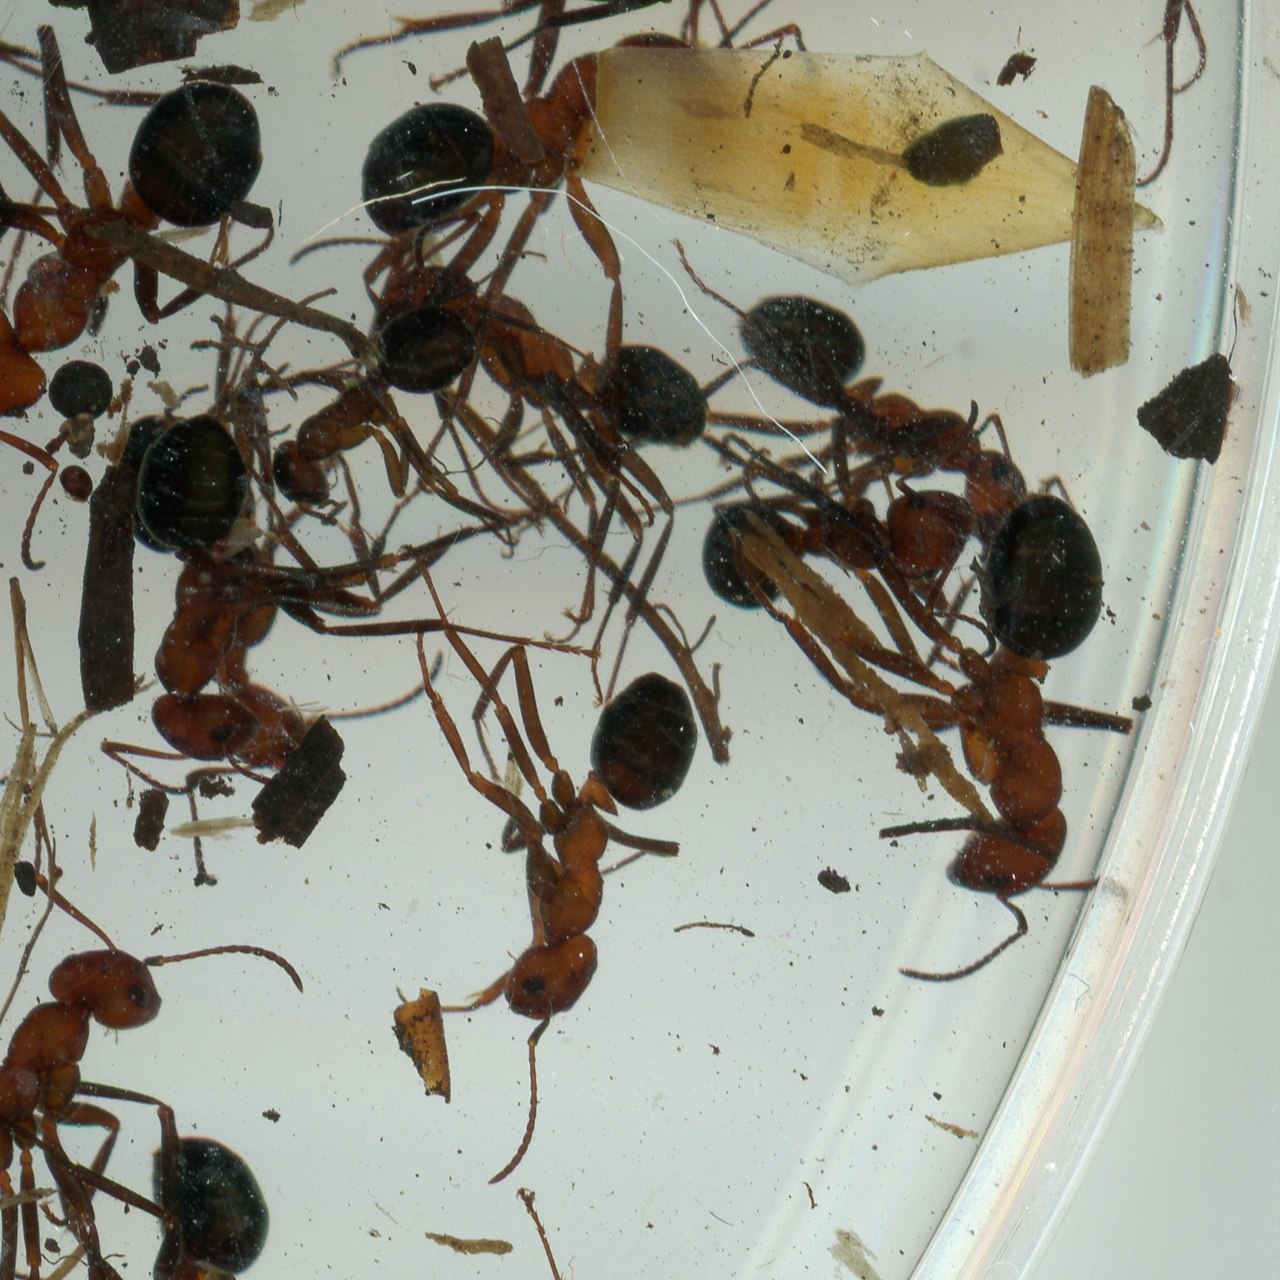arthropod: (398, 544, 704, 1199), (292, 0, 855, 356), (348, 230, 773, 673), (596, 210, 1065, 584), (0, 17, 329, 467), (0, 844, 323, 1280), (73, 405, 392, 817), (882, 493, 1143, 990), (688, 426, 984, 628), (27, 1136, 277, 1280), (439, 1193, 737, 1280), (58, 464, 99, 510)
